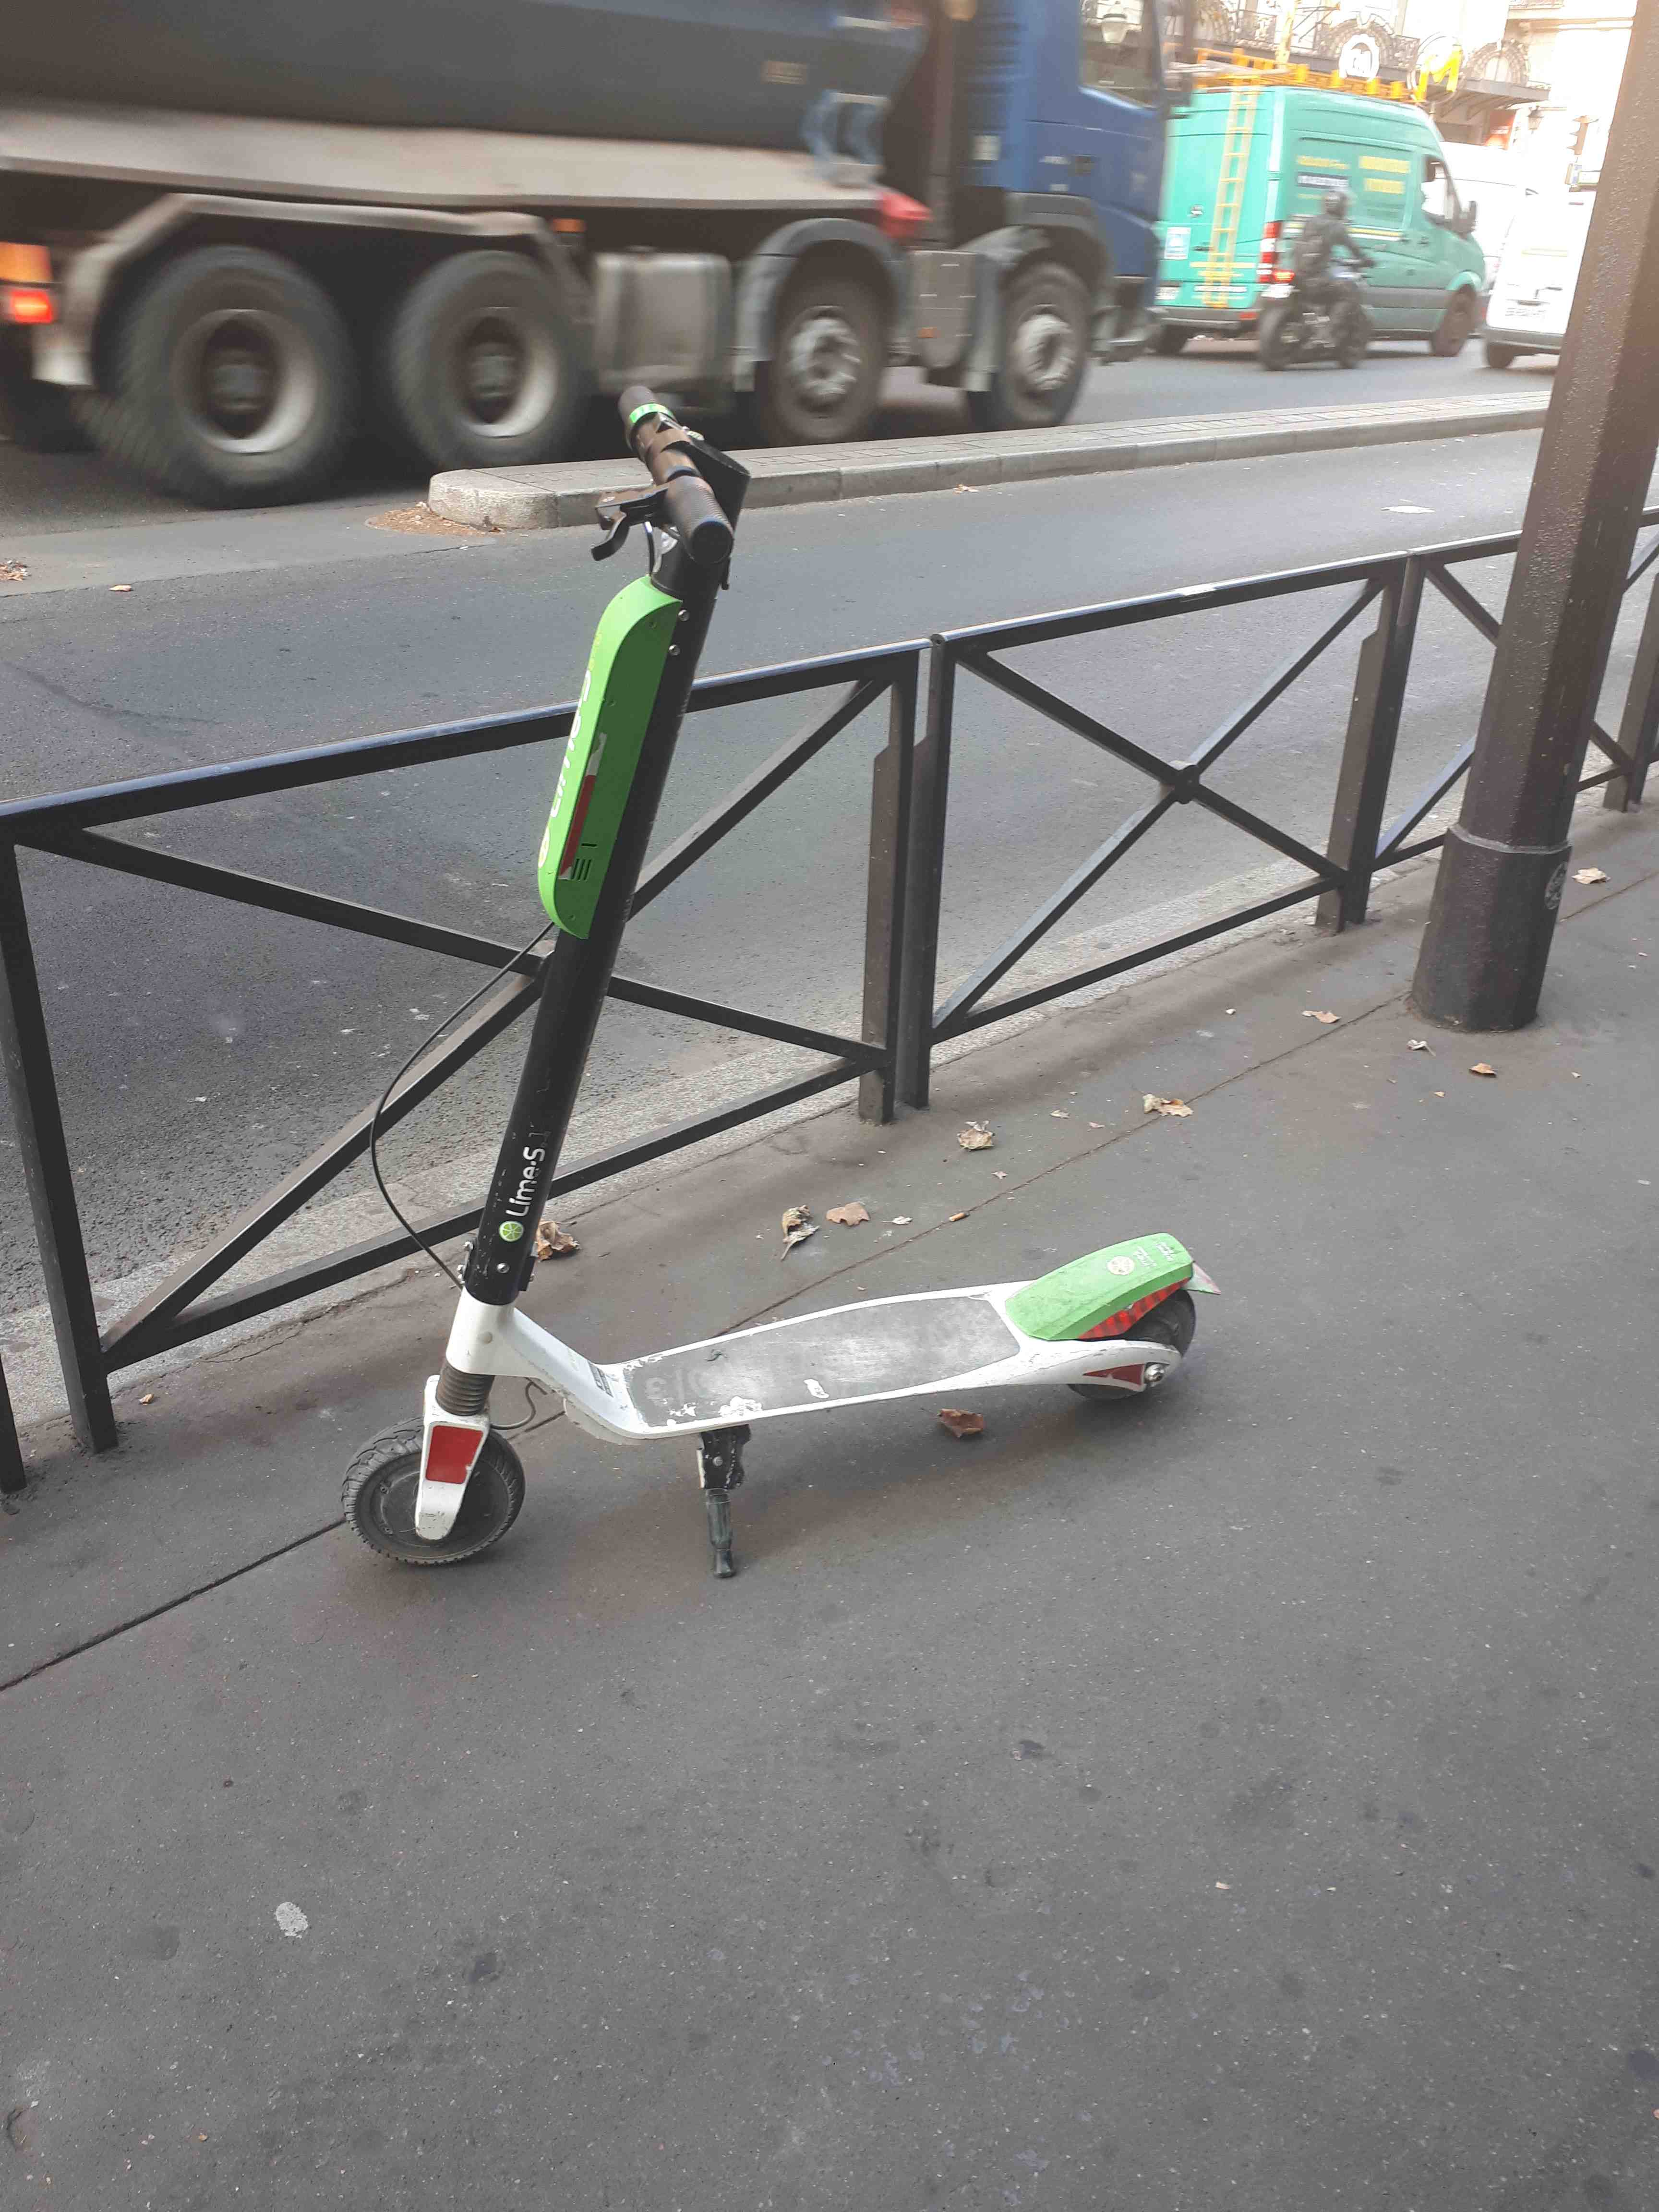scooter: (317, 326, 1249, 1625)
